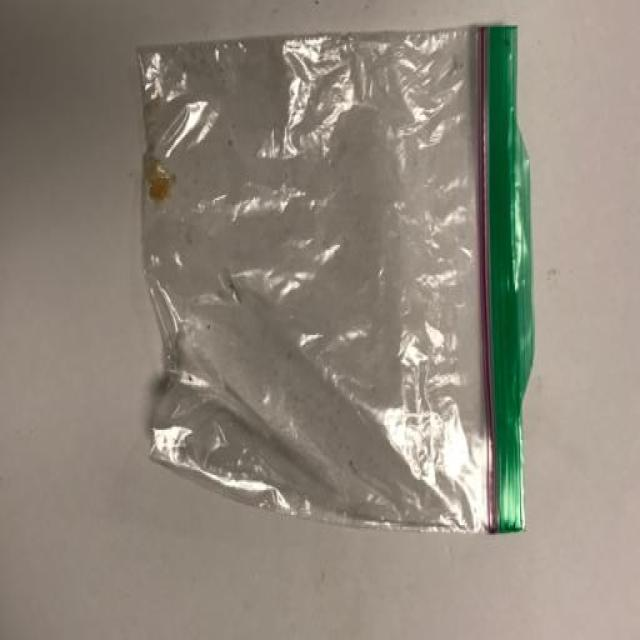Random Trash: (136, 27, 538, 538)
